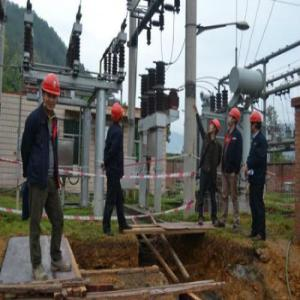red: (41, 72, 61, 113), (250, 108, 264, 135), (227, 106, 242, 130), (112, 102, 126, 127), (209, 117, 221, 139)
